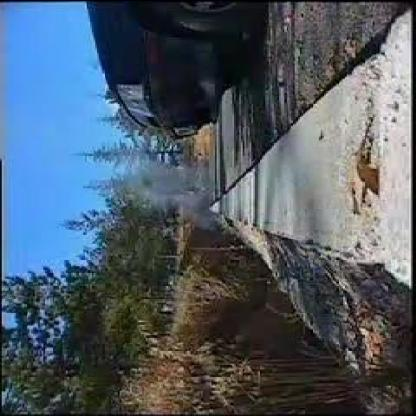-: (140, 184, 216, 226)
